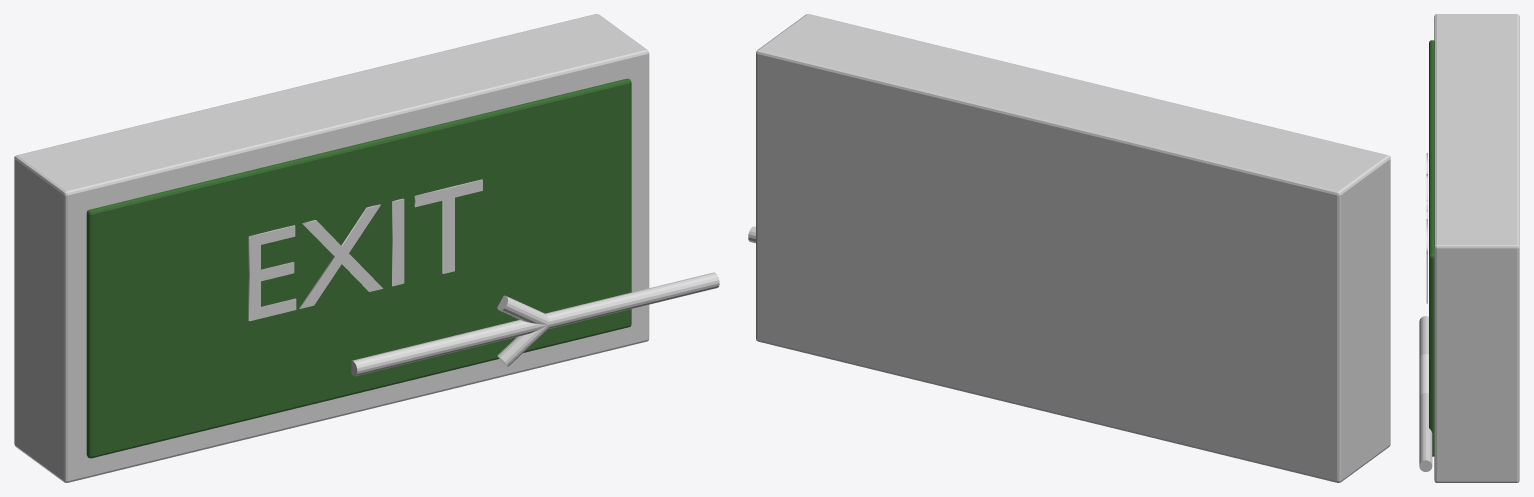
The model's file is source-edit.glb.
The picture shows the model from 3 angles, left to right: view 1: azimuth 30°, elevation 25°; view 2: azimuth 150°, elevation 25°; view 3: azimuth 270°, elevation 25°; orthographic projection. The views are drawn at different scales.
Parts seen in each view (by area): view 1: Green_Face, Housing, Editable_Label_EXIT, Arrow_Shaft, Arrow_Tip.001, Arrow_Tip; view 2: Housing; view 3: Housing, Green_Face, Arrow_Shaft, Arrow_Tip.001, Editable_Label_EXIT.
Boxes of the visible parts, x1,y1,x2,y2 form: Green_Face: (86,78,631,458); Housing: (14,14,649,482); Editable_Label_EXIT: (248,179,482,321); Arrow_Shaft: (351,272,719,376); Arrow_Tip.001: (497,295,548,324); Arrow_Tip: (497,325,548,367); Housing: (756,14,1390,482); Housing: (1434,14,1519,482); Green_Face: (1429,40,1434,456); Arrow_Shaft: (1419,316,1432,471); Arrow_Tip.001: (1419,354,1428,396); Editable_Label_EXIT: (1426,153,1427,303).
Bounding box in the file's own units: 0.463 × 0.2 × 0.0765.
